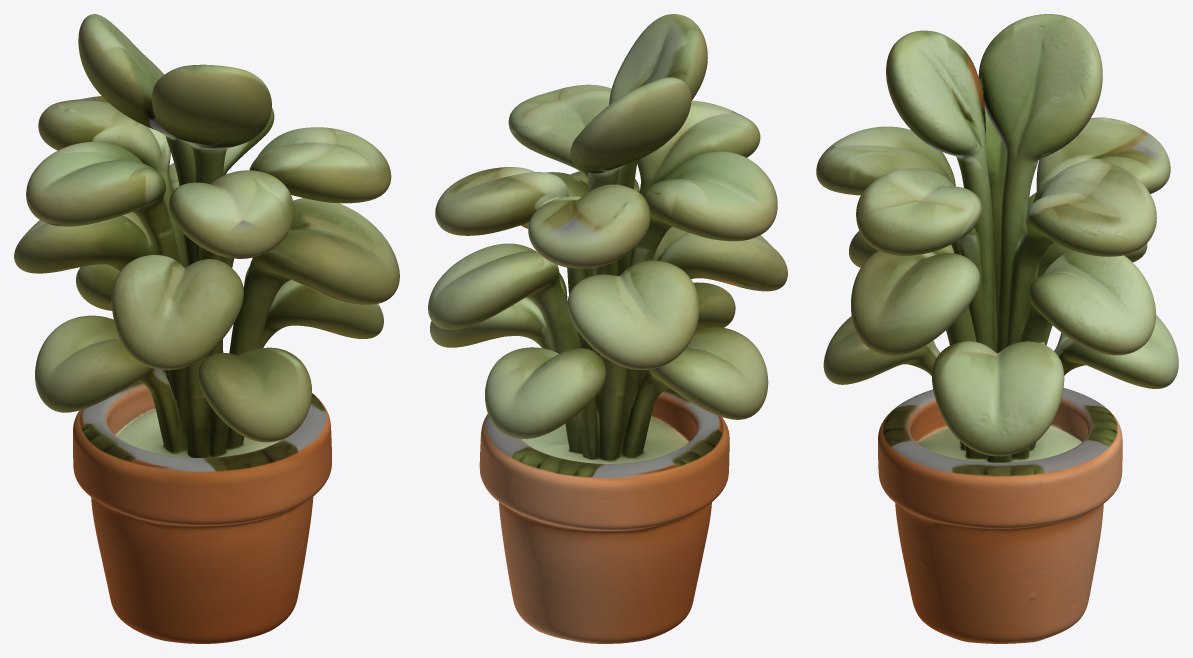
The picture shows the model from 3 angles, left to right: view 1: azimuth 30°, elevation 25°; view 2: azimuth 150°, elevation 25°; view 3: azimuth 270°, elevation 25°; orthographic projection. The views are drawn at different scales.
Visible parts, largest first — view 1: tripo_node_50203ee7-2477-4611-9b8c-38fa773c086d; view 2: tripo_node_50203ee7-2477-4611-9b8c-38fa773c086d; view 3: tripo_node_50203ee7-2477-4611-9b8c-38fa773c086d.
Boxes of the visible parts, bbox=[...] form: tripo_node_50203ee7-2477-4611-9b8c-38fa773c086d: bbox=[14, 14, 399, 643]; tripo_node_50203ee7-2477-4611-9b8c-38fa773c086d: bbox=[428, 14, 787, 643]; tripo_node_50203ee7-2477-4611-9b8c-38fa773c086d: bbox=[816, 14, 1178, 643].
Bounding box in the file's own units: 0.6046 × 1 × 0.5859.
1 material, 1 textured.
